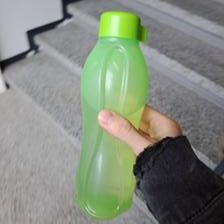bottle: (68, 10, 151, 218)
